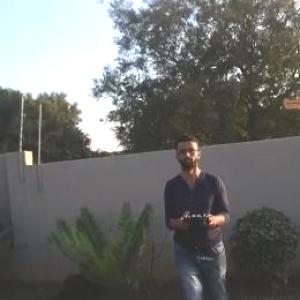follow: (158, 121, 237, 299)
